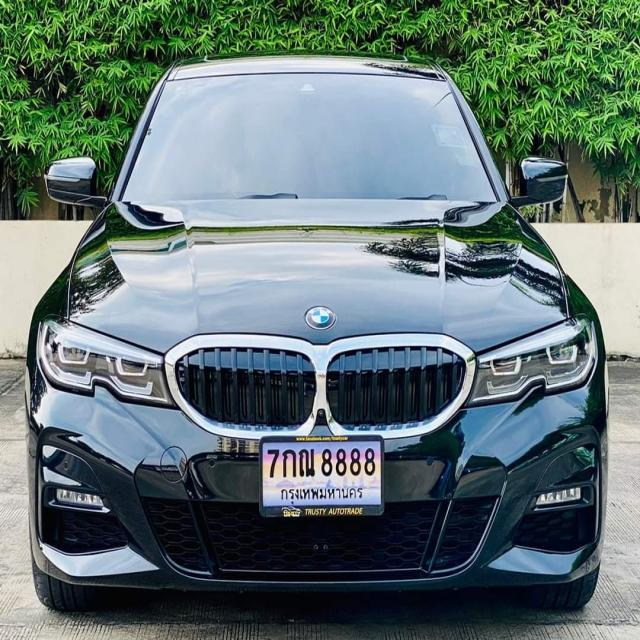license_plate: (259, 438, 387, 519)
